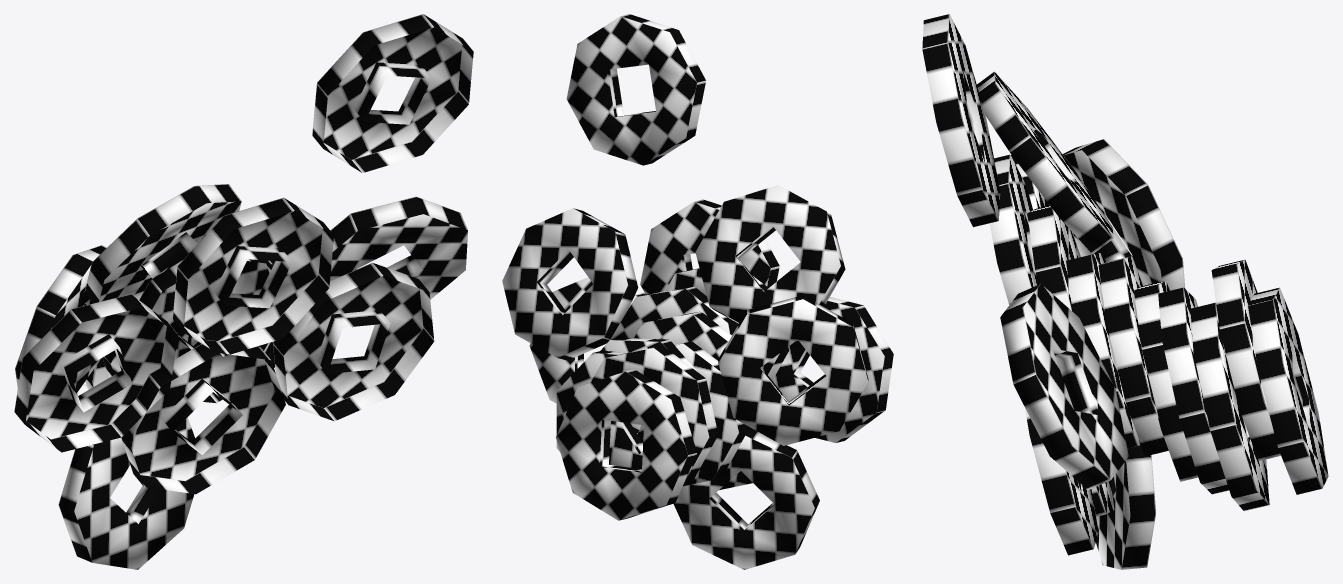
File: initlitr9.dae
3 views of the same model, side by side, from view 1: azimuth 30°, elevation 25°; view 2: azimuth 150°, elevation 25°; view 3: azimuth 270°, elevation 25° (orthographic). The views are drawn at different scales.
Visible parts, largest first — view 1: item; view 2: item; view 3: item.
Part boxes in pixels (x1,y1,x2,y2): item: (14,14,473,569); item: (502,14,893,569); item: (922,14,1328,569).
Bounding box in the file's own units: 1.71 × 1.14 × 2.01.
1 material, 1 textured.
